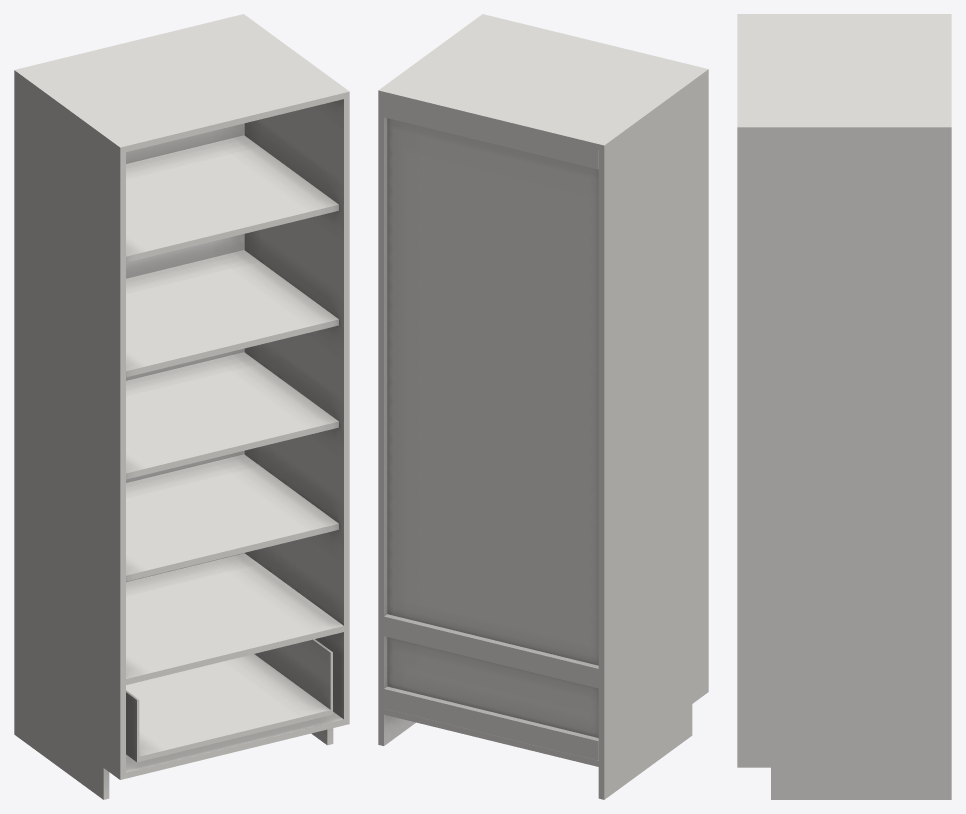
Rendered from tall-2-door-1-drawer-doors-off.glb.
3 renders of one model, left to right at view 1: azimuth 30°, elevation 25°; view 2: azimuth 150°, elevation 25°; view 3: azimuth 270°, elevation 25°, orthographic. The views are drawn at different scales.
Visible parts, largest first — view 1: part_0, part_3; view 2: part_0; view 3: part_0.
Part boxes in pixels (x1,y1,x2,y2): part_0: (14, 14, 349, 799); part_3: (126, 639, 332, 762); part_0: (378, 14, 708, 799); part_0: (737, 14, 951, 799).
Bounding box in the file's own units: 0.7621 × 2.11 × 0.6097.
Materials: 2 (1 with a texture image).
